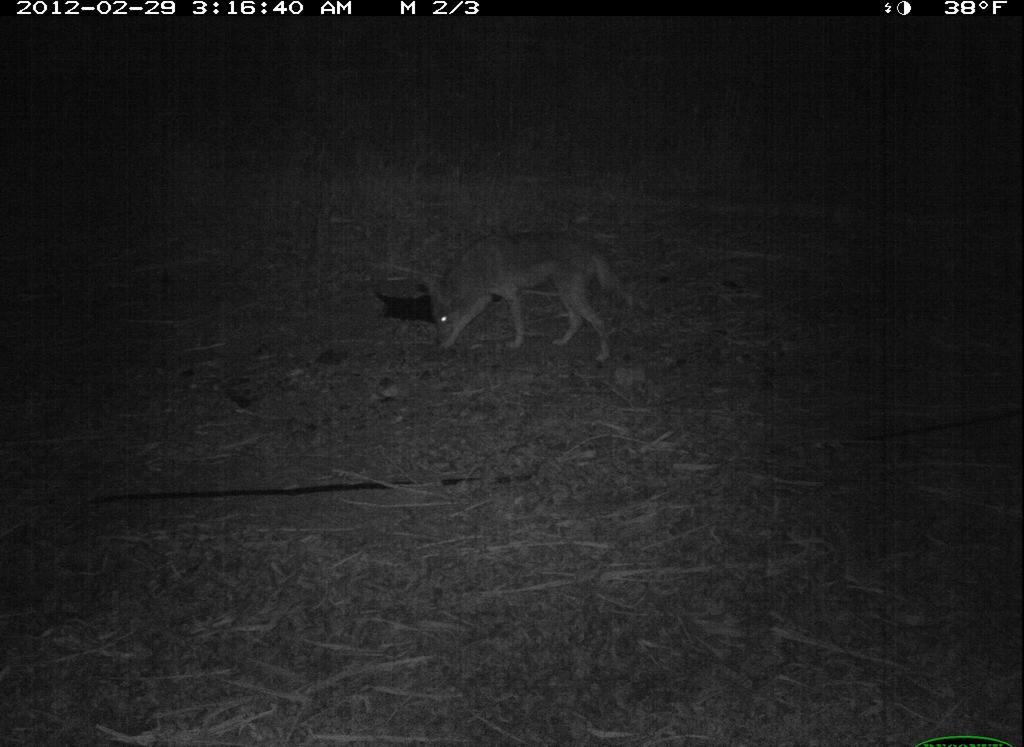coyote: (405, 224, 644, 382)
